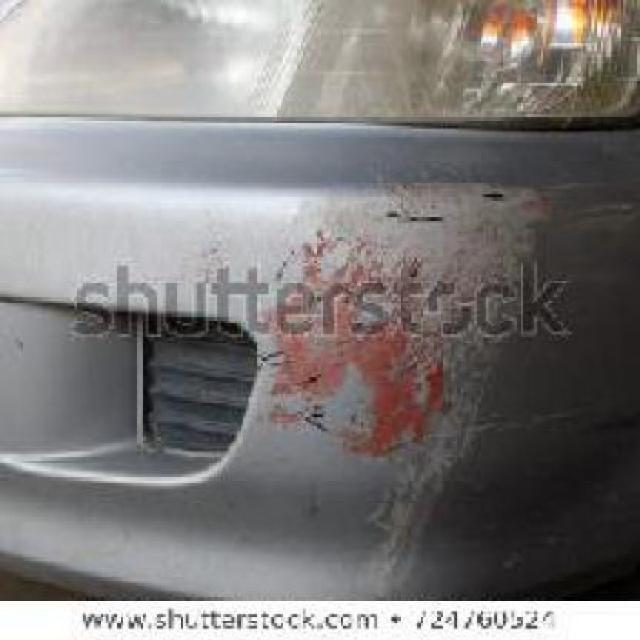dent-or-scratch: (264, 220, 546, 496)
